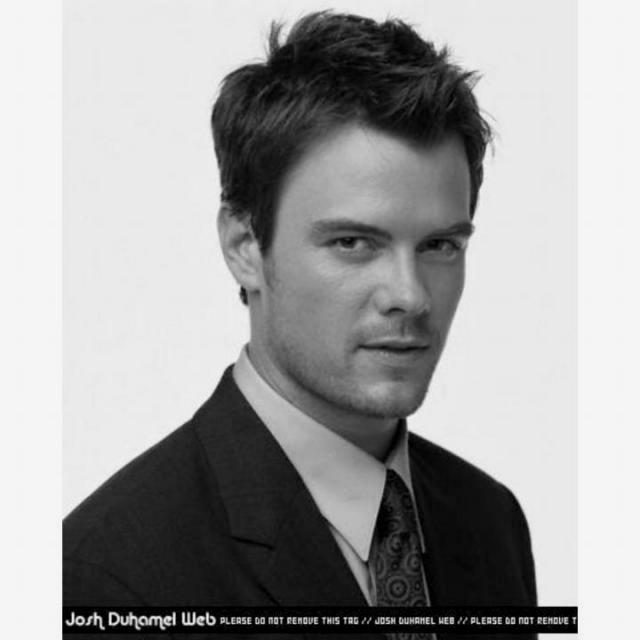real: (242, 62, 492, 428)
